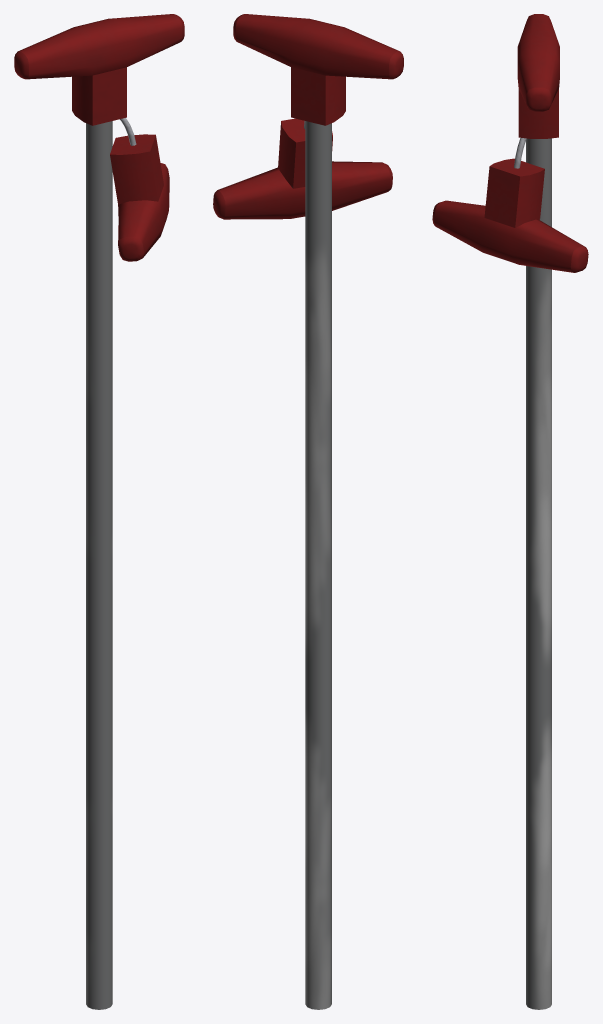
File: Vagon_MainCorridor_Equipment_hawser_01.fbx
3 renders of one model, left to right at view 1: azimuth 30°, elevation 25°; view 2: azimuth 150°, elevation 25°; view 3: azimuth 270°, elevation 25°, orthographic.
Visible parts, largest first — view 1: Vagon_MainCorridor_Equipment_hawser_01, Vagon_MainCorridor_Equipment_hawser_01.001, Vagon_MainCorridor_Equipment_hawser_01.002; view 2: Vagon_MainCorridor_Equipment_hawser_01, Vagon_MainCorridor_Equipment_hawser_01.001, Vagon_MainCorridor_Equipment_hawser_01.002; view 3: Vagon_MainCorridor_Equipment_hawser_01, Vagon_MainCorridor_Equipment_hawser_01.002, Vagon_MainCorridor_Equipment_hawser_01.001.
Boxes of the visible parts, left/top/right/bottom form: Vagon_MainCorridor_Equipment_hawser_01: left=86, top=121, right=112, bottom=1009; Vagon_MainCorridor_Equipment_hawser_01.001: left=14, top=14, right=184, bottom=125; Vagon_MainCorridor_Equipment_hawser_01.002: left=110, top=118, right=169, bottom=261; Vagon_MainCorridor_Equipment_hawser_01: left=305, top=121, right=331, bottom=1009; Vagon_MainCorridor_Equipment_hawser_01.001: left=233, top=14, right=403, bottom=125; Vagon_MainCorridor_Equipment_hawser_01.002: left=213, top=118, right=392, bottom=219; Vagon_MainCorridor_Equipment_hawser_01: left=526, top=138, right=551, bottom=1009; Vagon_MainCorridor_Equipment_hawser_01.002: left=432, top=138, right=588, bottom=272; Vagon_MainCorridor_Equipment_hawser_01.001: left=517, top=14, right=559, bottom=138.
Bounding box in the file's own units: 7.87 × 9.64 × 53.52.
